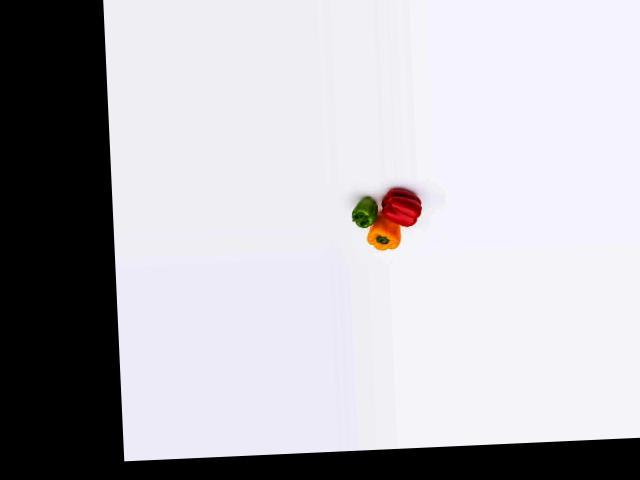bell_pepper: (344, 195, 379, 231)
